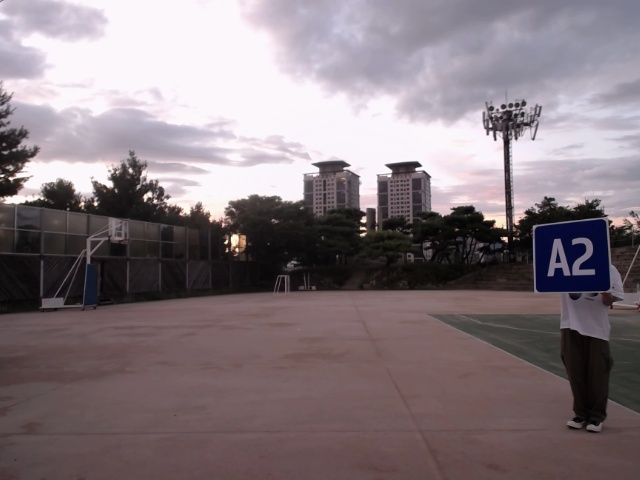delivery_a2: (533, 218, 610, 293)
